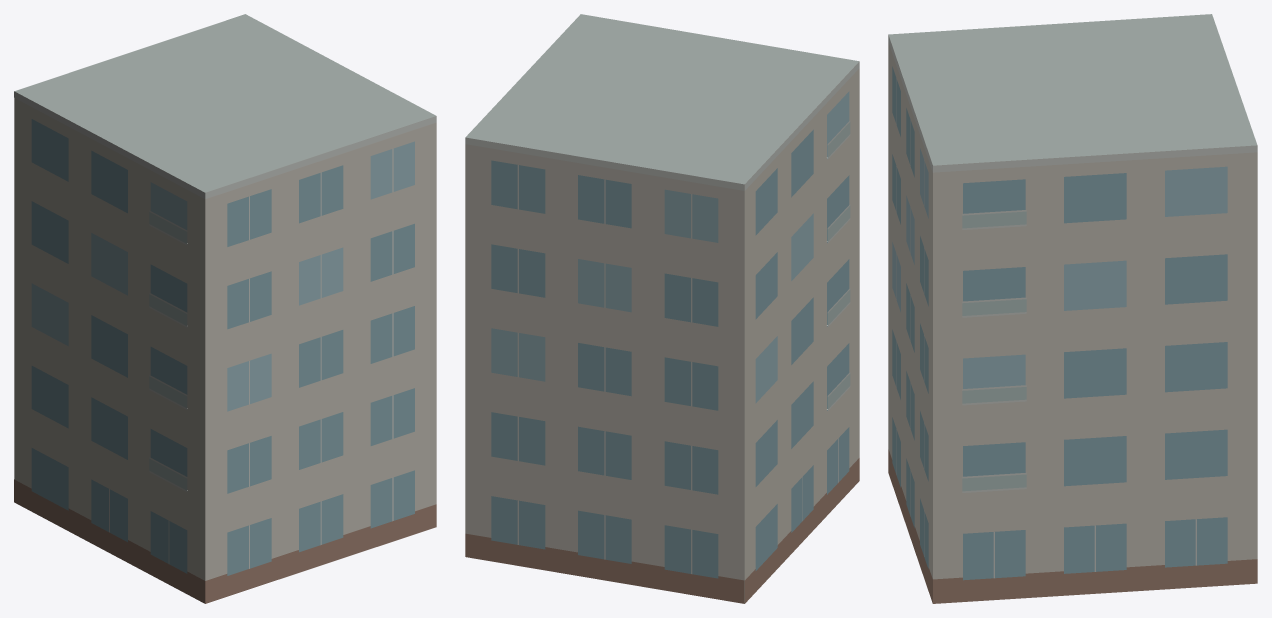
Rendered from survey-upis-33005921.glb.
3 views of the same model, side by side, from view 1: azimuth 30°, elevation 25°; view 2: azimuth 150°, elevation 25°; view 3: azimuth 270°, elevation 25° (orthographic). The views are drawn at different scales.
Parts seen in each view (by area): view 1: survey-upis-33005921.tmp; view 2: survey-upis-33005921.tmp; view 3: survey-upis-33005921.tmp.
Part boxes in pixels (x1,y1,x2,y2): survey-upis-33005921.tmp: (14, 14, 436, 603); survey-upis-33005921.tmp: (465, 14, 859, 603); survey-upis-33005921.tmp: (888, 14, 1257, 603).
Bounding box in the file's own units: 11.48 × 15.45 × 11.81.
